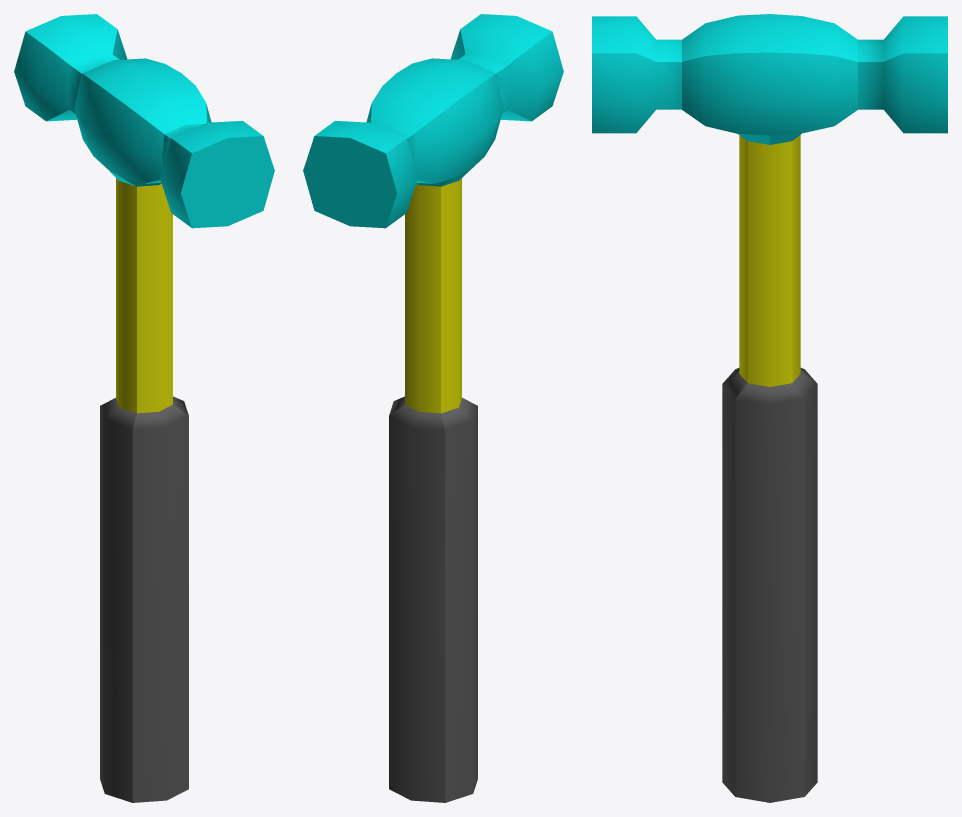
The model's file is Hammer.fbx.
3 renders of one model, left to right at view 1: azimuth 30°, elevation 25°; view 2: azimuth 150°, elevation 25°; view 3: azimuth 270°, elevation 25°, orthographic. The views are drawn at different scales.
Parts seen in each view (by area): view 1: Hammer_Mesh; view 2: Hammer_Mesh; view 3: Hammer_Mesh.
Part boxes in pixels (x1,y1,x2,y2): Hammer_Mesh: (14,14,274,802); Hammer_Mesh: (303,14,563,802); Hammer_Mesh: (592,14,947,802).
Bounding box in the file's own units: 1.75 × 12.01 × 5.12.
